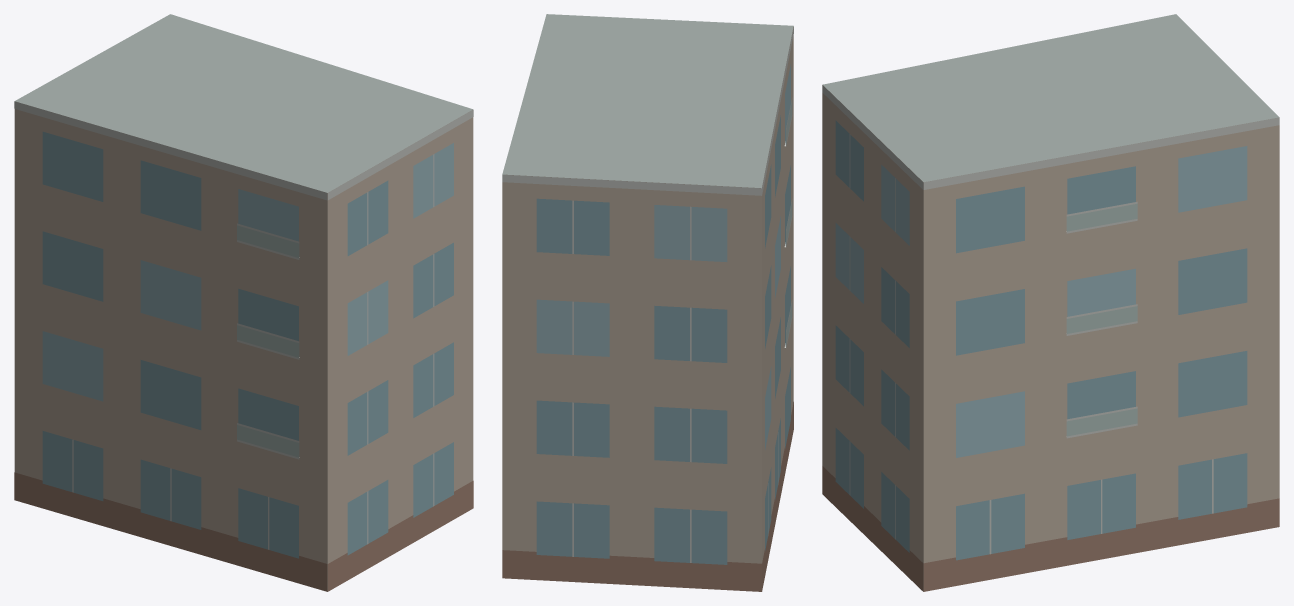
The model's file is survey-upis-33044114.glb.
The picture shows the model from 3 angles, left to right: view 1: azimuth 30°, elevation 25°; view 2: azimuth 150°, elevation 25°; view 3: azimuth 270°, elevation 25°; orthographic projection. The views are drawn at different scales.
Parts seen in each view (by area): view 1: survey-upis-33044114.tmp; view 2: survey-upis-33044114.tmp; view 3: survey-upis-33044114.tmp.
Boxes of the visible parts, bbox=[...] form: survey-upis-33044114.tmp: bbox=[14, 14, 473, 591]; survey-upis-33044114.tmp: bbox=[502, 14, 793, 591]; survey-upis-33044114.tmp: bbox=[822, 14, 1279, 591].
Size of the model in its own units: 11.29 by 12.8 by 12.96.
